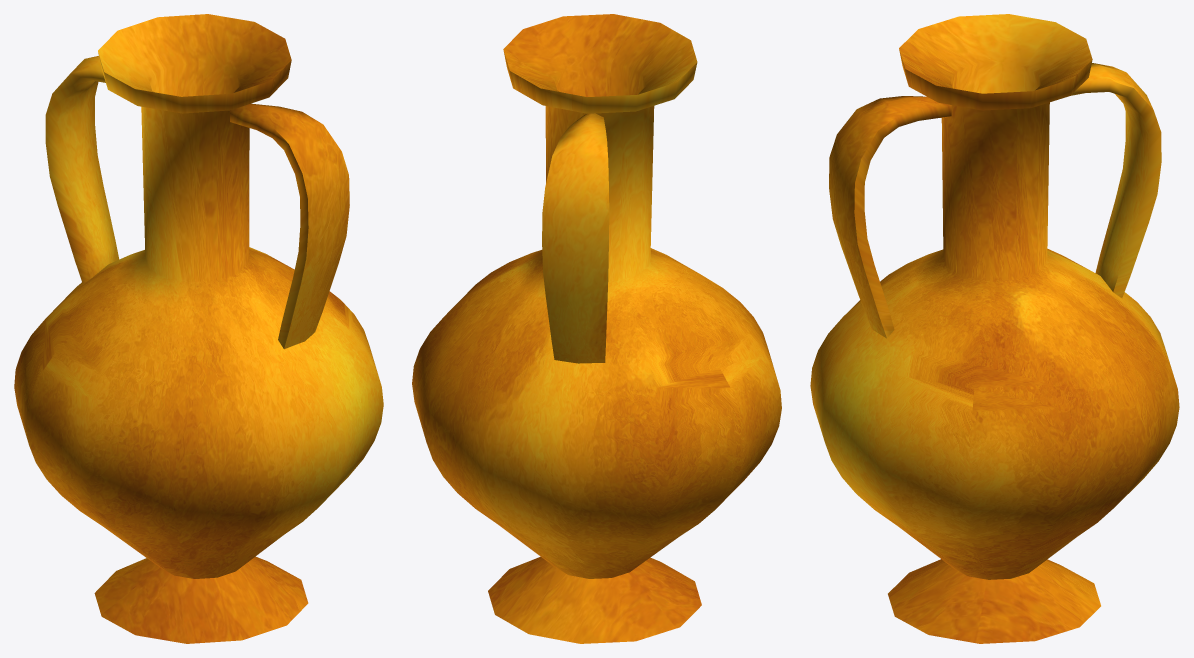
The model's file is jar2.FBX.
3 renders of one model, left to right at view 1: azimuth 30°, elevation 25°; view 2: azimuth 150°, elevation 25°; view 3: azimuth 270°, elevation 25°, orthographic.
Visible parts, largest first — view 1: jar2; view 2: jar2; view 3: jar2.
Part boxes in pixels (x1,y1,x2,y2): jar2: (14,14,383,643); jar2: (412,14,781,643); jar2: (810,14,1179,643).
Size of the model in its own units: 0.2011 by 0.2011 by 0.3279.
